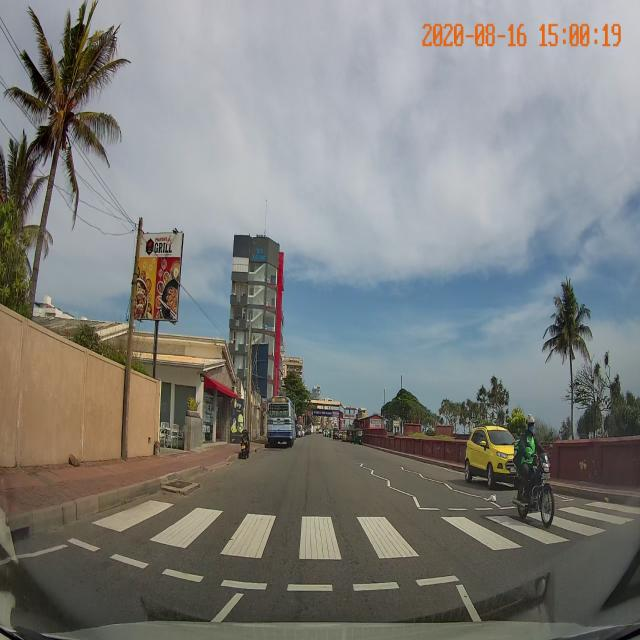Crosswalk: (56, 495, 640, 598)
